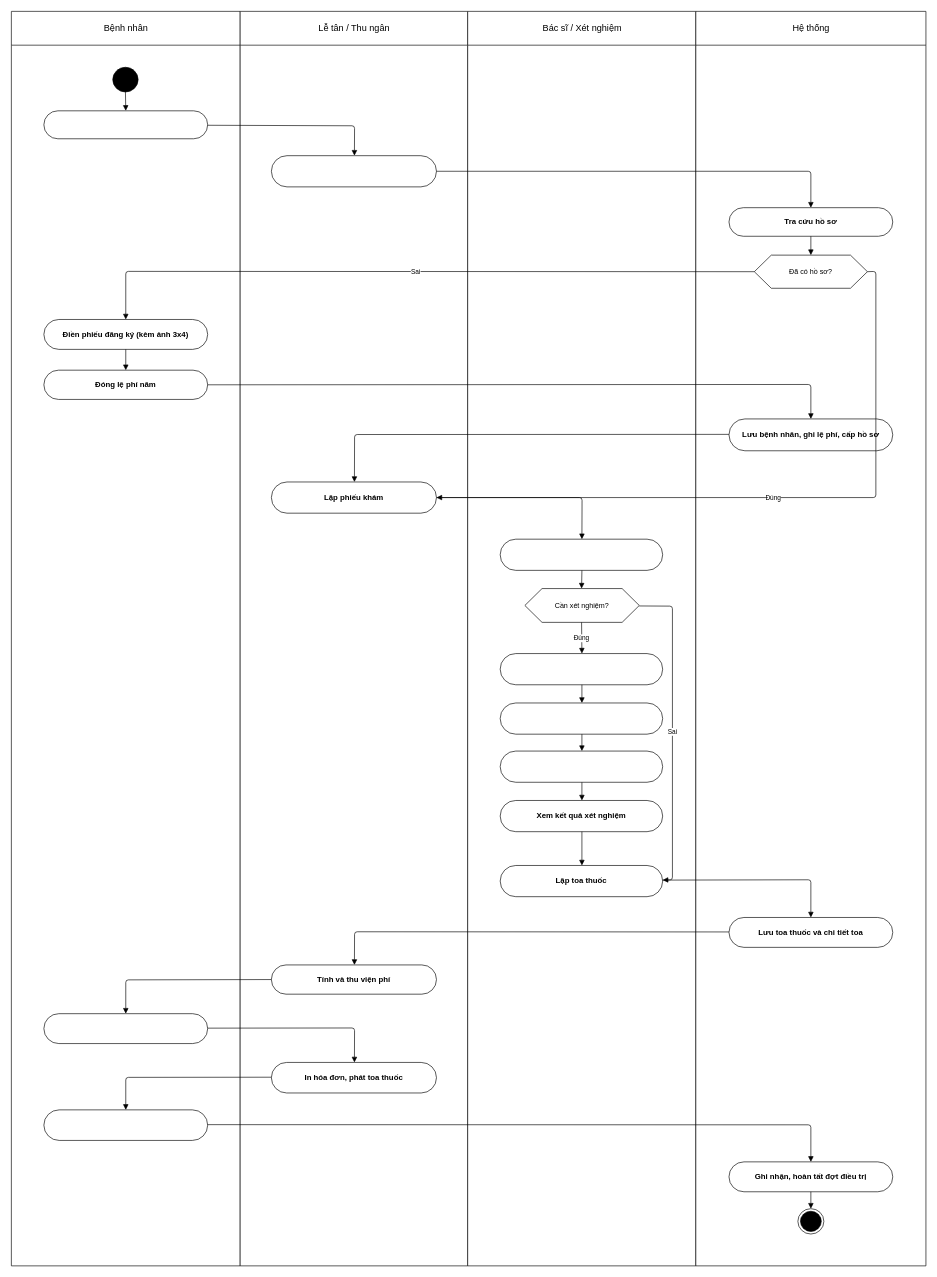
Image size: 937x1277. Some labels were removed from this diagram. The shapes that lost their labels are listed below. From the top down, each one's box as (x1, y1, x2, y2) in pixels, then its label:
(43, 110, 208, 139): Đến bệnh viện, yêu cầu khám
(271, 155, 436, 187): Nhập mã hồ sơ / thông tin tìm kiếm
(500, 539, 663, 570): Khám bệnh, ghi triệu chứng
(500, 653, 663, 685): Chỉ định xét nghiệm
(500, 702, 663, 734): Thực hiện xét nghiệm
(500, 750, 663, 782): Nhập kết quả xét nghiệm
(43, 1013, 208, 1044): Thanh toán viện phí
(43, 1109, 208, 1140): Nhận toa thuốc
